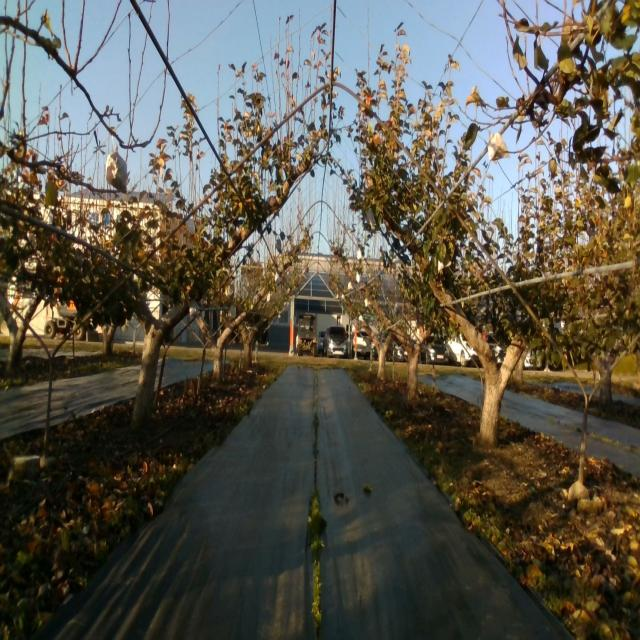pearbags: (105, 145, 127, 193), (487, 134, 510, 162)
